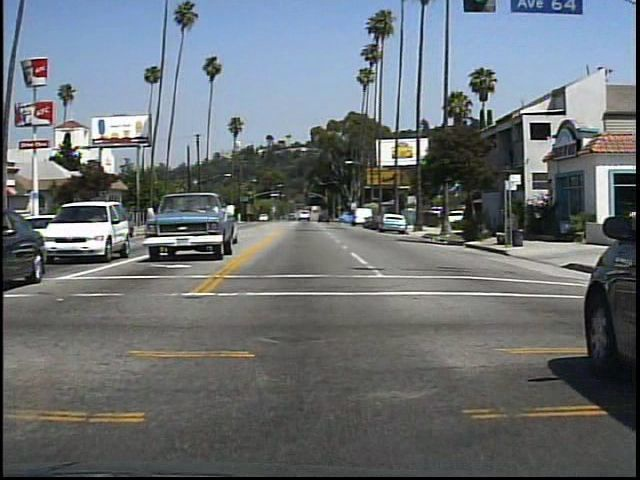person: (477, 199, 499, 245)
